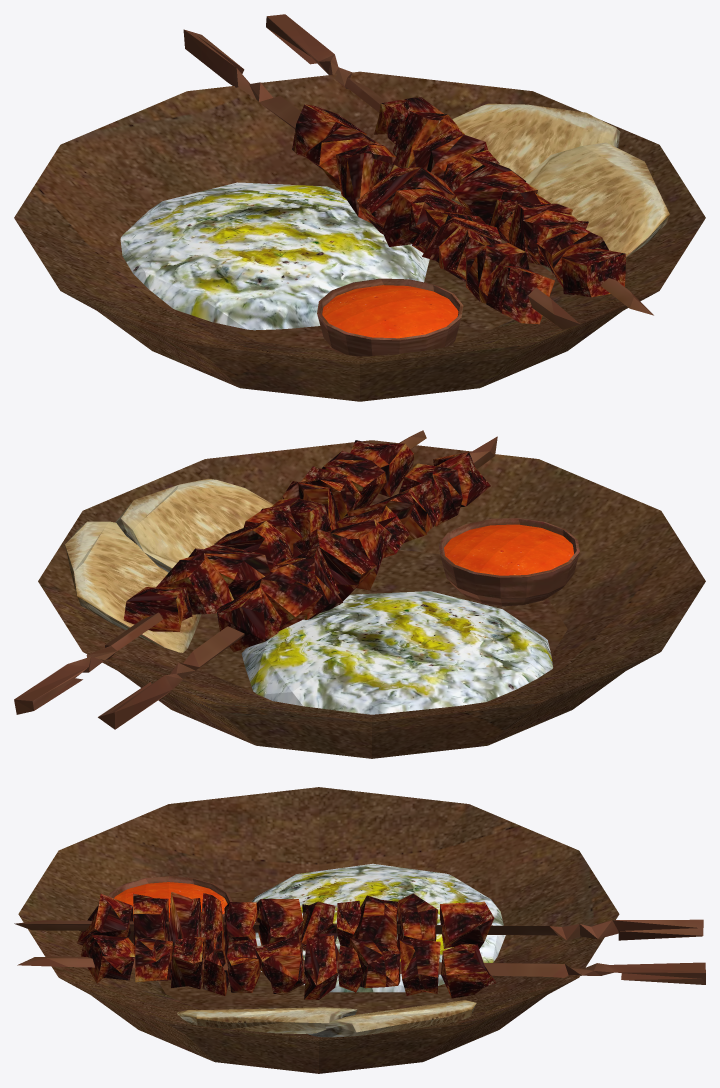
File: ITFO_GS_SHAW_02.glb
The picture shows the model from 3 angles, top to bottom: view 1: azimuth 30°, elevation 25°; view 2: azimuth 150°, elevation 25°; view 3: azimuth 270°, elevation 25°; orthographic projection. The views are drawn at different scales.
Parts seen in each view (by area): view 1: ITFO_GS_SHAW_02; view 2: ITFO_GS_SHAW_02; view 3: ITFO_GS_SHAW_02.
Part boxes in pixels (bbox=[...]): ITFO_GS_SHAW_02: bbox=[14, 14, 705, 401]; ITFO_GS_SHAW_02: bbox=[14, 430, 705, 758]; ITFO_GS_SHAW_02: bbox=[14, 787, 705, 1073].
Bounding box in the file's own units: 0.3731 × 0.0717 × 0.4295.
Materials: 4 (4 with a texture image).
